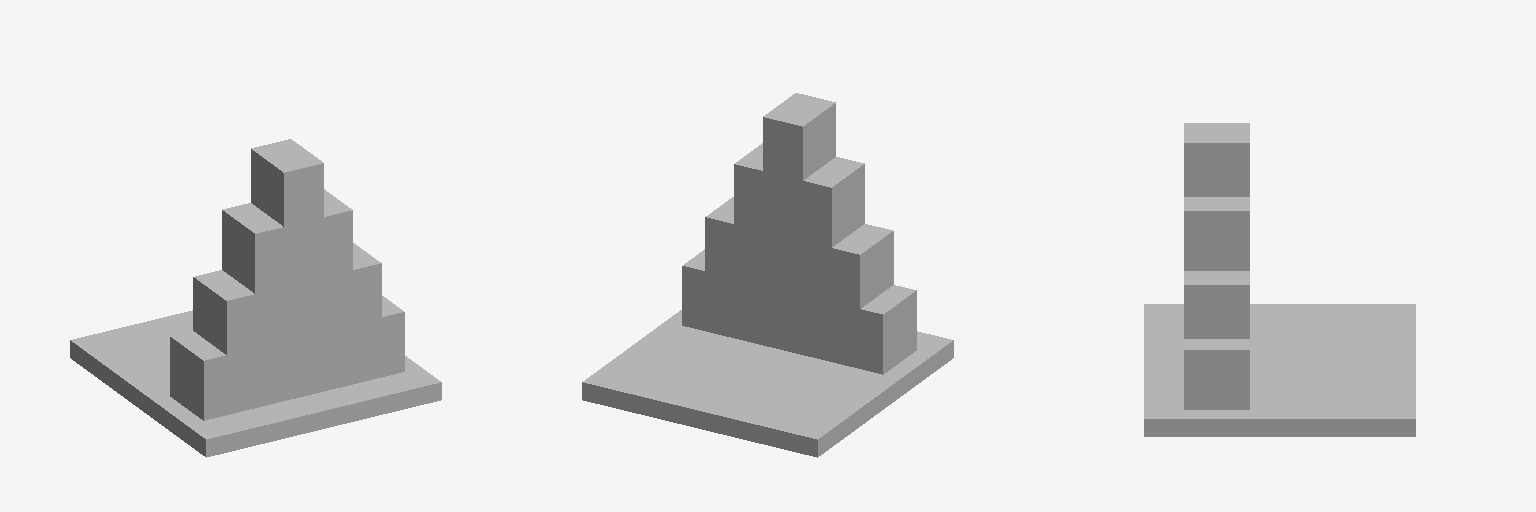
The model's file is pincho.obj.
The picture shows the model from 3 angles: view 1: azimuth 30°, elevation 25°; view 2: azimuth 150°, elevation 25°; view 3: azimuth 270°, elevation 25°; orthographic projection.
Parts seen in each view (by area): view 1: object 1; view 2: object 1; view 3: object 1.
Boxes of the visible parts, <box> form: object 1: <box>70,139,441,457</box>; object 1: <box>582,93,953,457</box>; object 1: <box>1144,123,1415,436</box>.
Bounding box in the file's own units: 4.1 × 4.1 × 4.1.